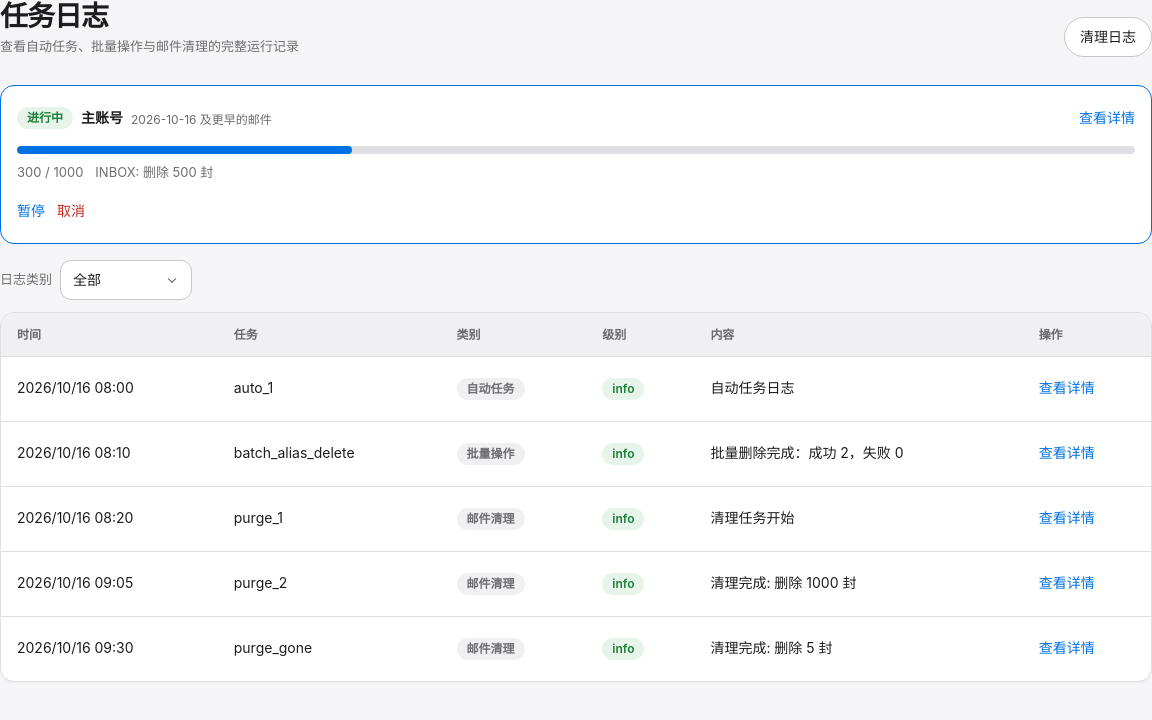
Test: LogsPage 清理任务与类别 › 任务已不可查时清理日志行回退「日志详情」(不含任务信息)
Expected: the text "清理完成: 删除 5 封" is shown, 694,616 -> 1023,681
Click the button "查看详情" in the row of "2026/10/16 09:30" at (1067, 649), box 1039,629 -> 1095,669
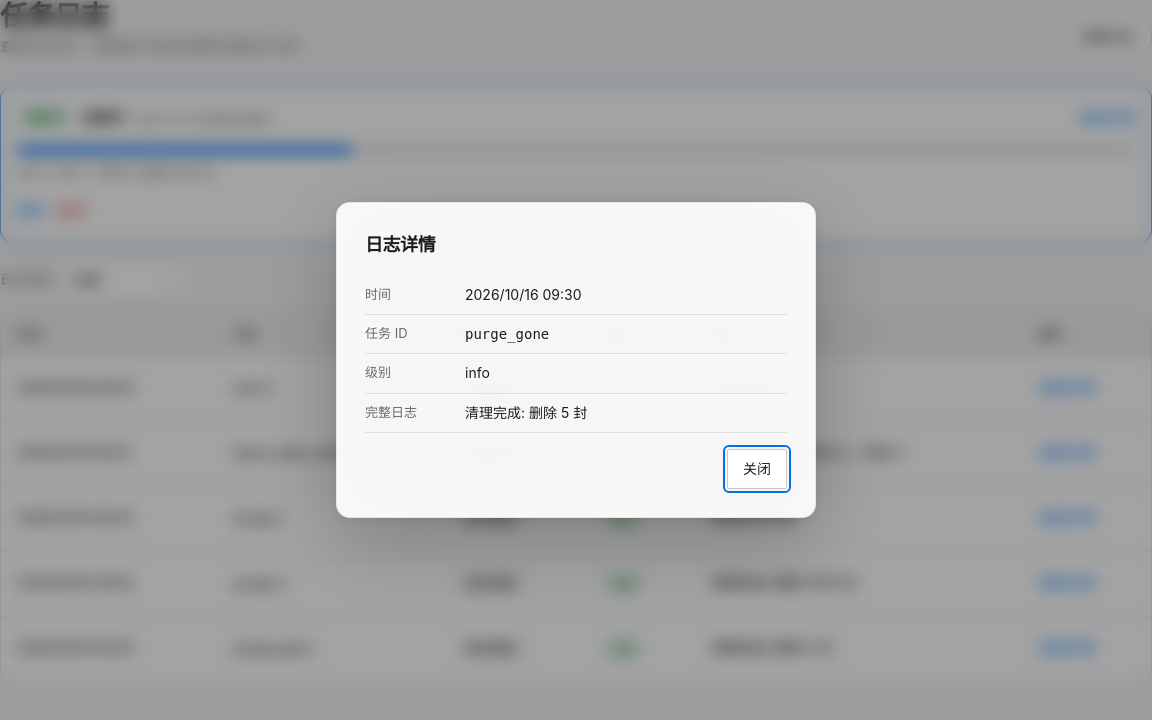
Now the text "完整日志" is shown, box 365,404 -> 417,420
Now the text "清理完成: 删除 5 封" is shown, box 465,404 -> 587,421
